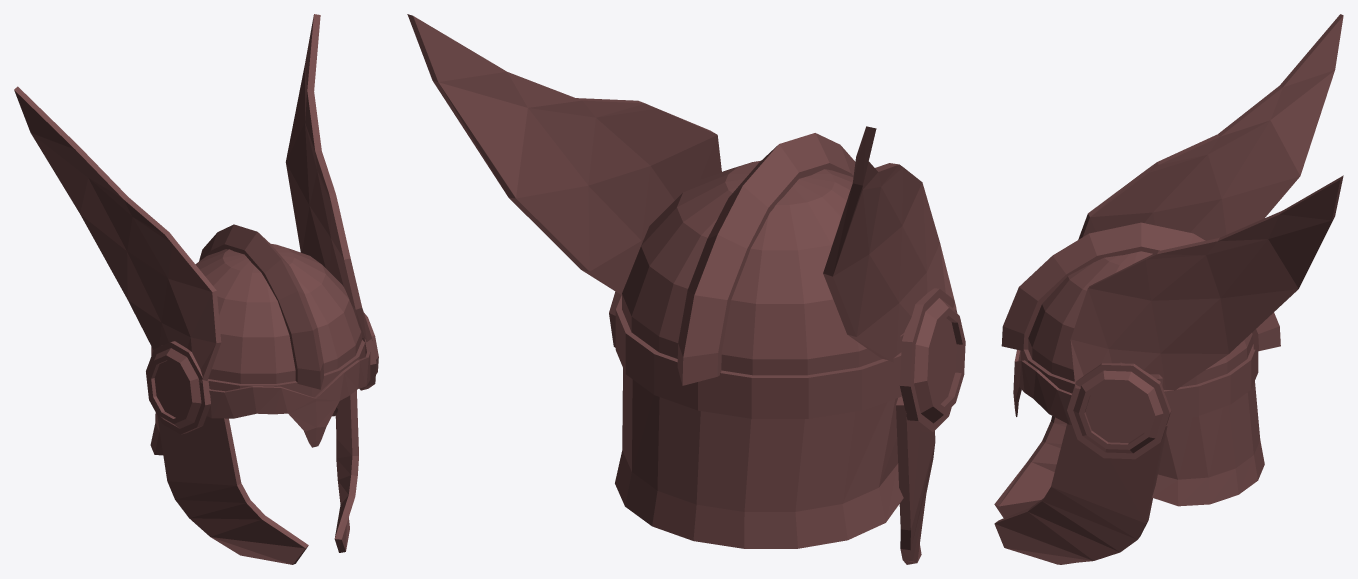
Rendered from SM_helmet_valkyre.fbx.
3 renders of one model, left to right at view 1: azimuth 30°, elevation 25°; view 2: azimuth 150°, elevation 25°; view 3: azimuth 270°, elevation 25°, orthographic. The views are drawn at different scales.
Parts seen in each view (by area): view 1: Object008; view 2: Object008; view 3: Object008.
Part boxes in pixels (<box>): Object008: <box>14,14,378,564</box>; Object008: <box>407,14,965,564</box>; Object008: <box>994,14,1343,564</box>.
Size of the model in its own units: 15.61 by 19.45 by 13.92.
